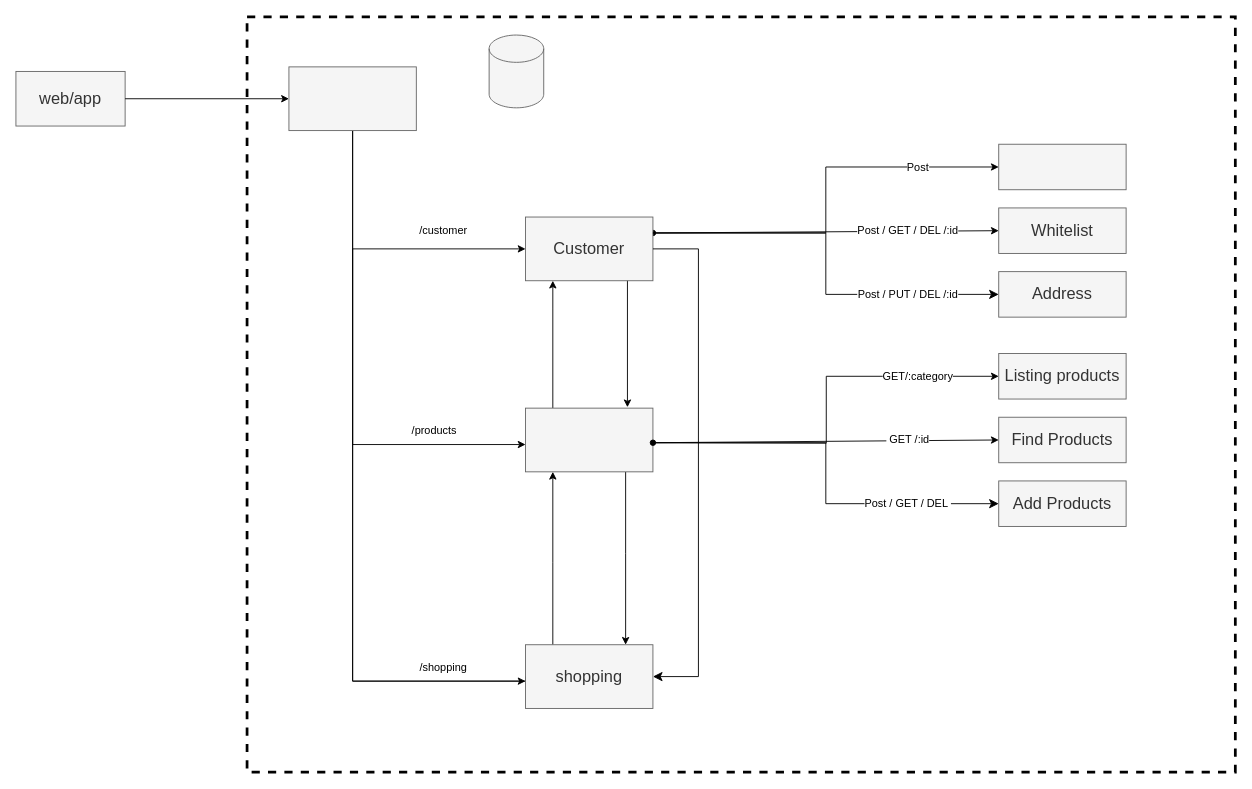
This 1252x789 diagram has some shape labels left out. The shapes that lost their labels are listed below. From the top down, each one's centre as x and y in pixels, then its label:
At (516,71): "DB".
At (352,98): "backend stystem".
At (1062,166): "Sign in/Sign up".
At (589,439): "product".
